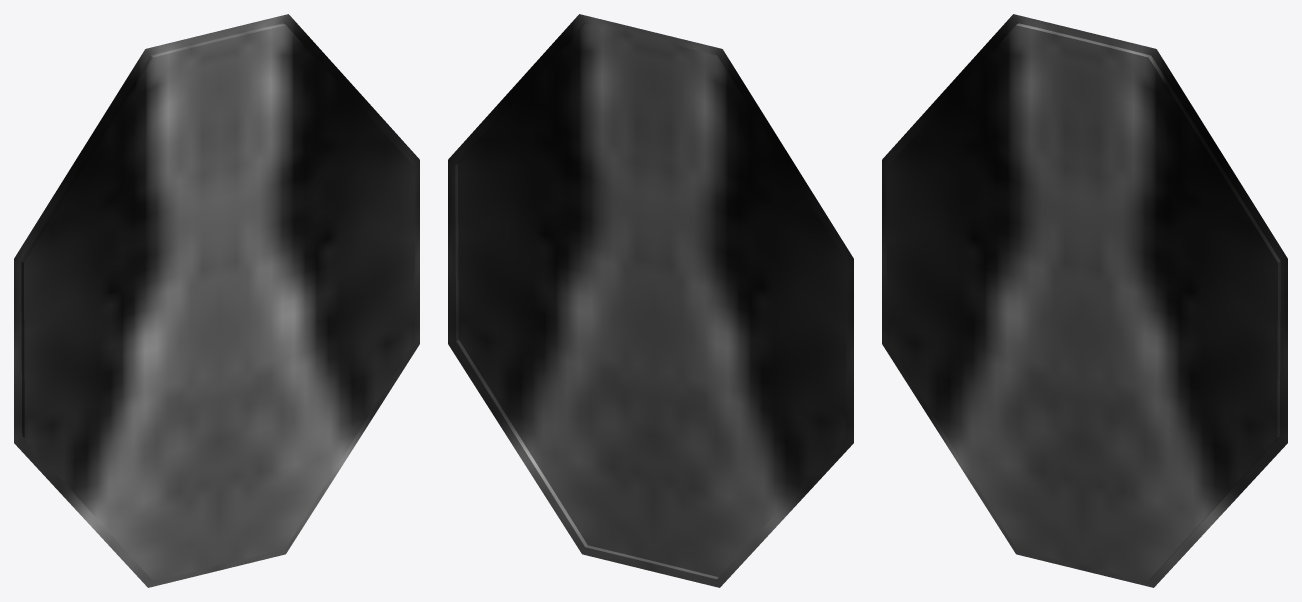
The model's file is zhiba2.FBX.
3 views of the same model, side by side, from view 1: azimuth 30°, elevation 25°; view 2: azimuth 150°, elevation 25°; view 3: azimuth 330°, elevation 25° (orthographic).
Visible parts, largest first — view 1: Object28; view 2: Object28; view 3: Object28.
Boxes of the visible parts, x1,y1,x2,y2 form: Object28: (14,14,419,587); Object28: (448,14,853,587); Object28: (882,14,1287,587).
Bounding box in the file's own units: 10.38 × 0.1166 × 13.18.
